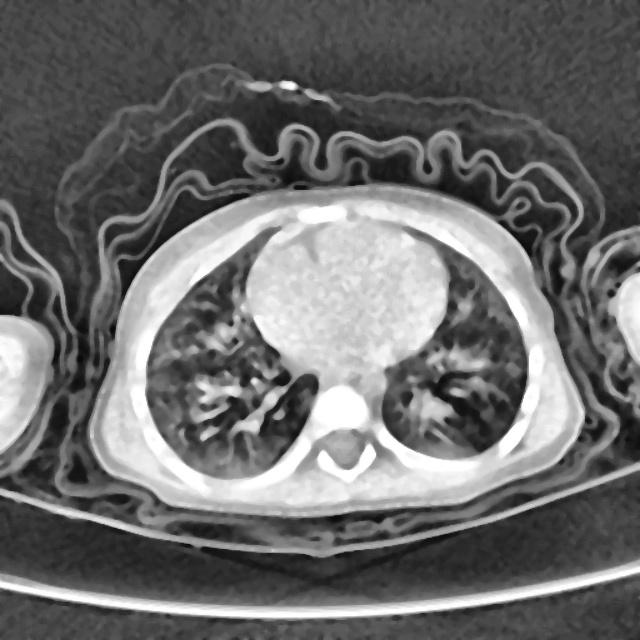covid: (88, 181, 585, 517)
